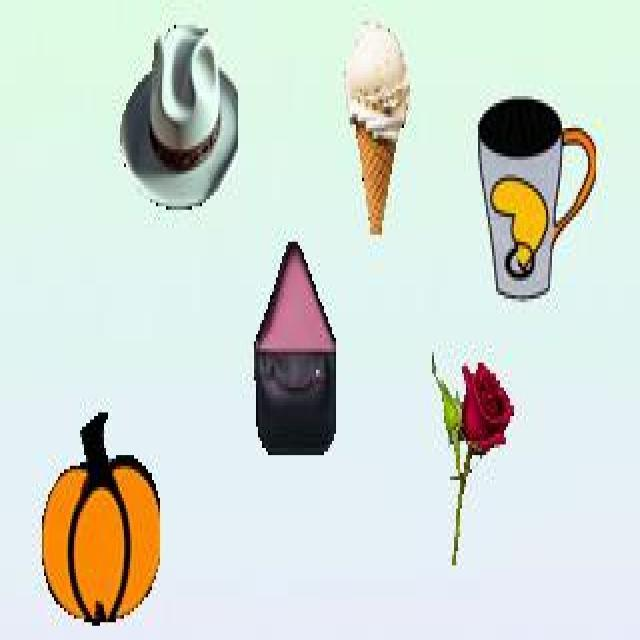Other Objects: (478, 95, 596, 301), (120, 22, 238, 211), (430, 346, 514, 564)
